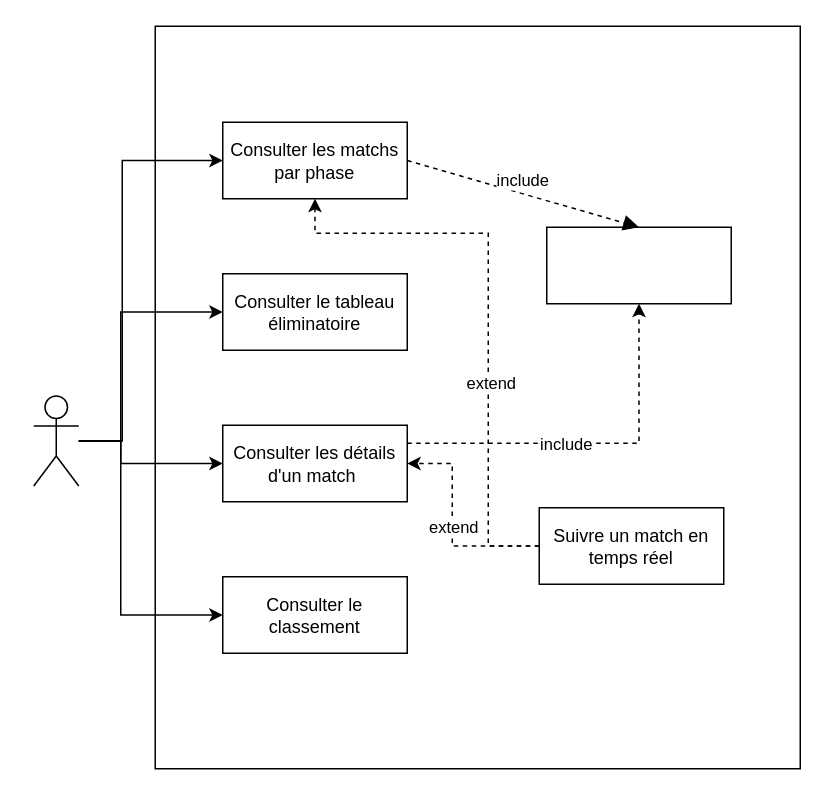
The diagram is 827 pixels wide and 795 high, and some of its shapes have lost their labels. The shapes that lost their labels are listed below. From the top down, each one's centre as x and y in pixels, then its label:
At (638,265): "Naviguer entre phases et matchs".
At (55,440): "Visiteur".
